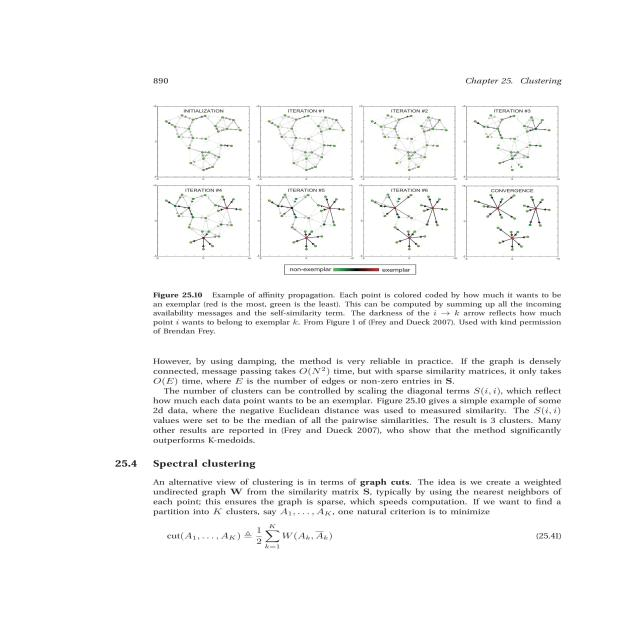diagram: (109, 95, 635, 347)
